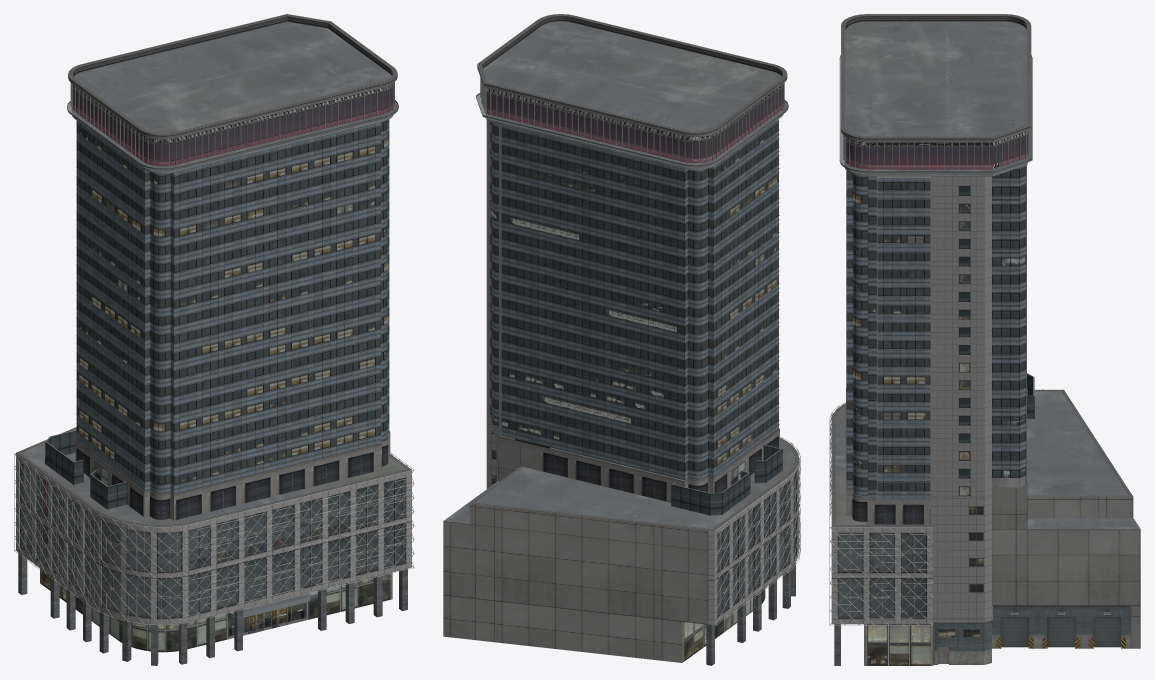
The model's file is singapore.glb.
3 renders of one model, left to right at view 1: azimuth 30°, elevation 25°; view 2: azimuth 150°, elevation 25°; view 3: azimuth 270°, elevation 25°, orthographic. The views are drawn at different scales.
Parts seen in each view (by area): view 1: Cube.003_4, Cube.009_3, Cube.004_2, Cube.027_5, Cube.001_1, Cube.002_7, Cube.036_6; view 2: Cube.003_4, Cube.001_1, Cube.009_3, Cube.002_7, Cube.004_2, Cube.036_6, Cube.027_5; view 3: Cube.003_4, Cube.001_1, Cube.009_3, Cube.027_5, Cube.002_7, Cube.004_2.
Boxes of the visible parts, <box> form: Cube.003_4: <box>16,14,411,665</box>; Cube.009_3: <box>20,462,405,618</box>; Cube.004_2: <box>14,452,414,625</box>; Cube.027_5: <box>24,468,398,616</box>; Cube.001_1: <box>40,431,392,599</box>; Cube.002_7: <box>41,132,389,643</box>; Cube.036_6: <box>20,464,404,618</box>; Cube.003_4: <box>444,14,798,665</box>; Cube.001_1: <box>443,429,779,662</box>; Cube.009_3: <box>717,470,797,615</box>; Cube.002_7: <box>491,139,776,659</box>; Cube.004_2: <box>715,437,800,625</box>; Cube.036_6: <box>717,476,797,615</box>; Cube.027_5: <box>515,439,783,611</box>; Cube.003_4: <box>831,14,1140,665</box>; Cube.001_1: <box>846,388,1140,665</box>; Cube.009_3: <box>838,533,926,618</box>; Cube.027_5: <box>838,533,925,616</box>; Cube.002_7: <box>853,193,1025,664</box>; Cube.004_2: <box>829,389,1064,625</box>.
Bounding box in the file's own units: 59.28 × 106 × 56.44.
Materials: 7 (6 with a texture image).
